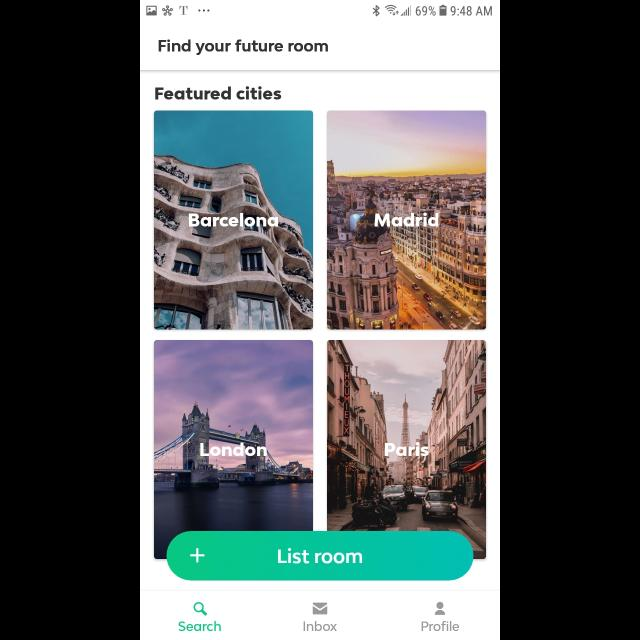icon: (193, 602, 207, 616), (312, 603, 328, 615), (434, 602, 446, 616)
image: (326, 110, 486, 330), (154, 110, 314, 330), (328, 340, 487, 560), (154, 340, 314, 558)
text: (159, 40, 329, 56), (154, 86, 282, 100), (189, 213, 279, 227), (374, 212, 438, 228), (200, 442, 268, 456), (385, 442, 429, 456), (178, 621, 222, 631), (421, 621, 459, 631), (303, 621, 337, 631)
textbutton: (166, 531, 474, 581)
uppertaskbar: (140, 1, 500, 17)
